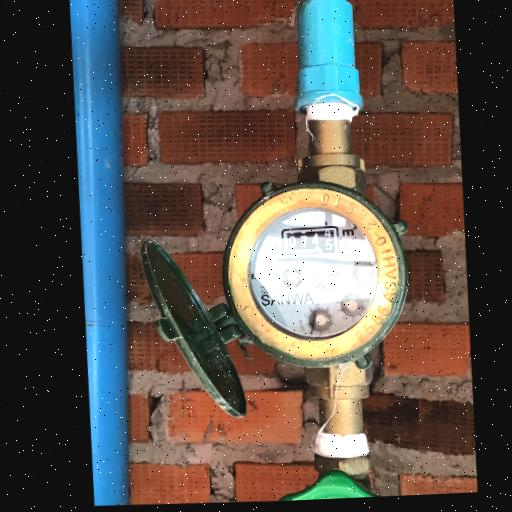0: (285, 232, 299, 251)
4: (309, 231, 321, 250)
5: (319, 230, 335, 255)
7: (297, 231, 311, 250)
border_water_meter_number: (280, 225, 340, 256)
